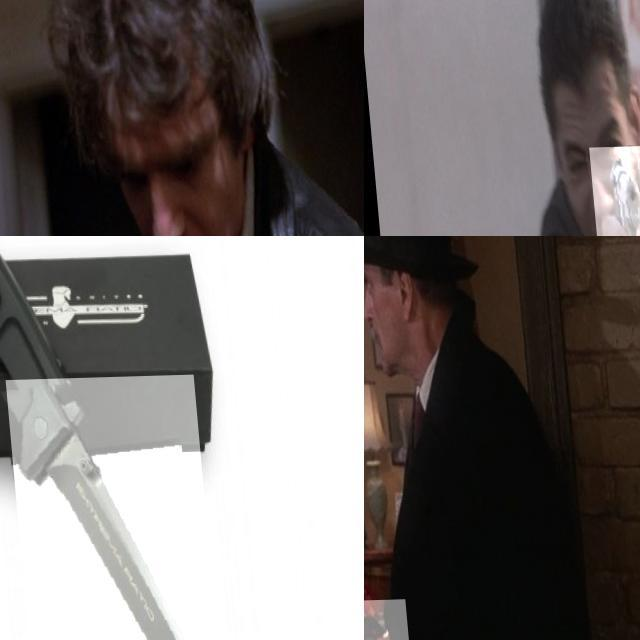-: (1, 377, 215, 640)
gun-knife-thesis - v11 Yolov5 augmented: (585, 147, 640, 236)
